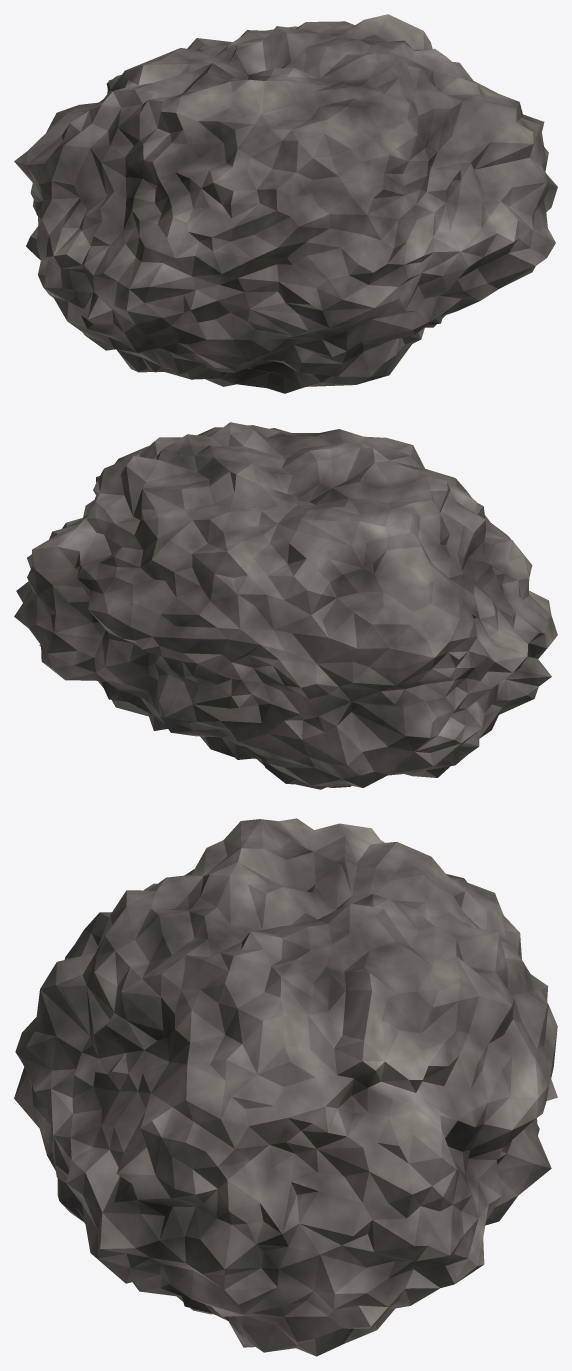
Rendered from Asteroide1.fbx.
3 renders of one model, top to bottom at view 1: azimuth 30°, elevation 25°; view 2: azimuth 150°, elevation 25°; view 3: azimuth 270°, elevation 25°, orthographic. The views are drawn at different scales.
Visible parts, largest first — view 1: Asteroide1; view 2: Asteroide1; view 3: Asteroide1.
Part boxes in pixels (bbox=[...]): Asteroide1: bbox=[14, 14, 557, 393]; Asteroide1: bbox=[14, 422, 557, 789]; Asteroide1: bbox=[14, 818, 557, 1356].
Size of the model in its own units: 193 by 124 by 146.
